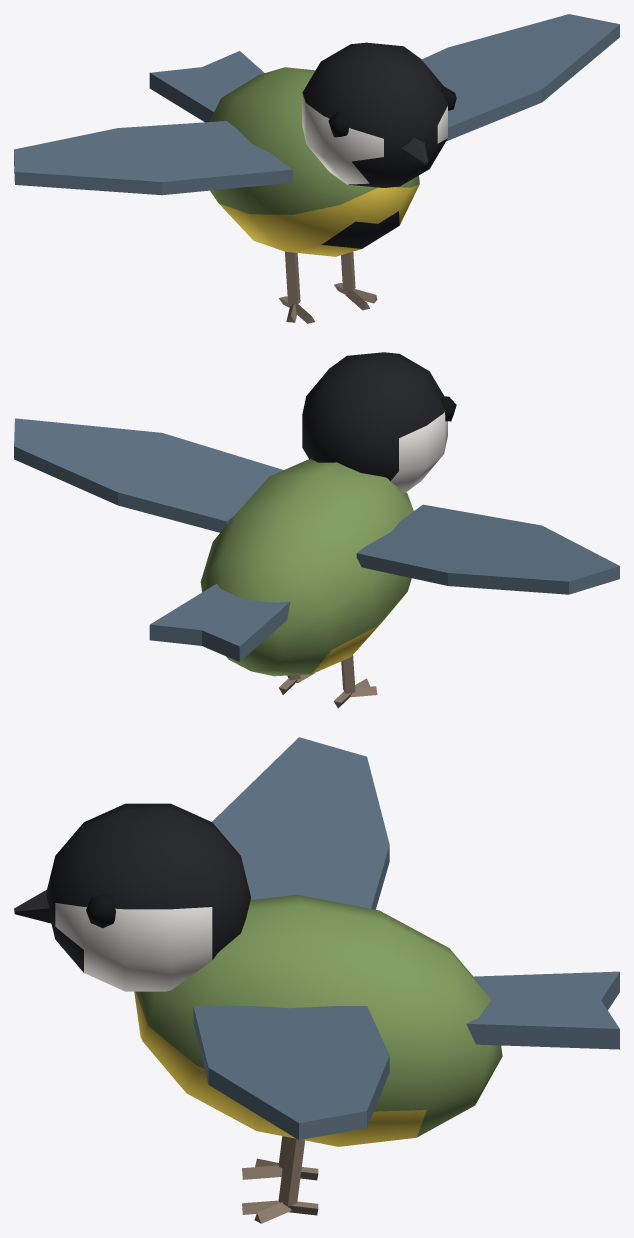
The model's file is bird_tit.glb.
The picture shows the model from 3 angles, top to bottom: view 1: azimuth 30°, elevation 25°; view 2: azimuth 150°, elevation 25°; view 3: azimuth 270°, elevation 25°; orthographic projection. The views are drawn at different scales.
Visible parts, largest first — view 1: Bird_Body, Bird_Head, Bird_WingR, Bird_WingL, Bird_Legs; view 2: Bird_Body, Bird_WingL, Bird_Head, Bird_WingR, Bird_Legs; view 3: Bird_Body, Bird_Head, Bird_WingR, Bird_WingL, Bird_Legs.
Part boxes in pixels (x1,y1,x2,y2): Bird_Body: [149, 51, 419, 256]; Bird_Head: [302, 42, 456, 187]; Bird_WingR: [14, 121, 292, 195]; Bird_WingL: [422, 14, 619, 141]; Bird_Legs: [279, 251, 377, 323]; Bird_Body: [149, 459, 413, 676]; Bird_WingL: [14, 418, 283, 532]; Bird_Head: [302, 352, 456, 492]; Bird_WingR: [356, 504, 619, 594]; Bird_Legs: [279, 655, 377, 708]; Bird_Body: [134, 894, 619, 1146]; Bird_Head: [14, 803, 250, 991]; Bird_WingR: [212, 737, 389, 909]; Bird_WingL: [193, 1006, 389, 1140]; Bird_Legs: [242, 1136, 318, 1223].
Bounding box in the file's own units: 0.242 × 0.1131 × 0.1605.
